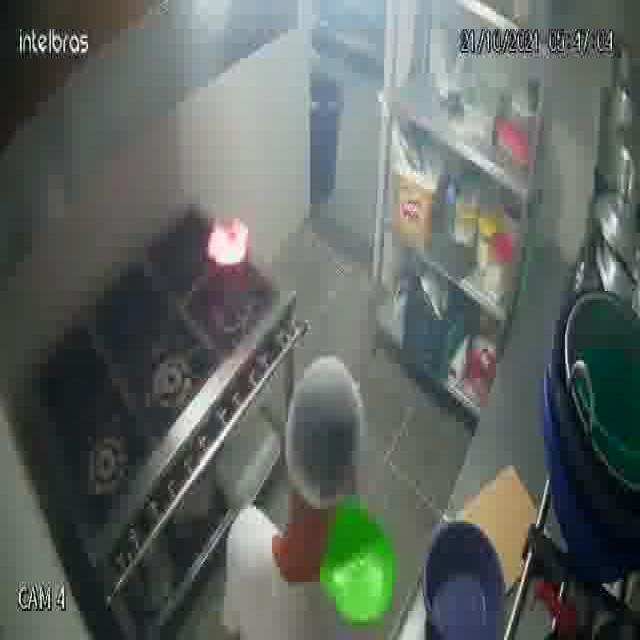Fire: (184, 164, 281, 335)
